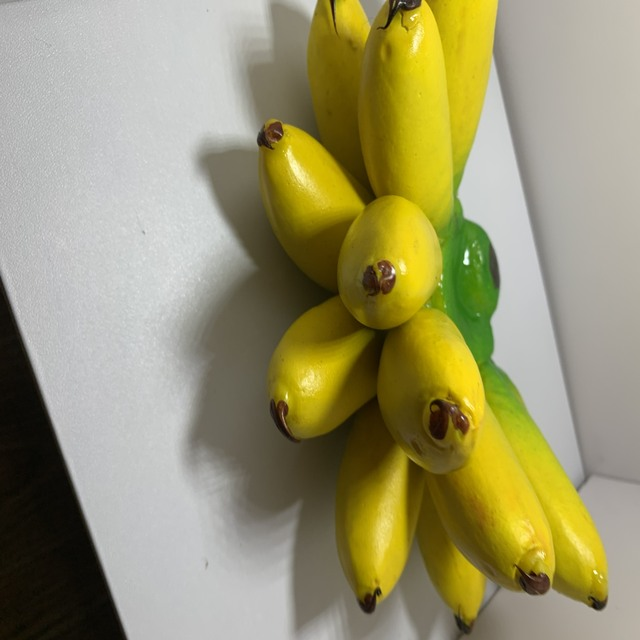Chuoi: (249, 0, 632, 637)
